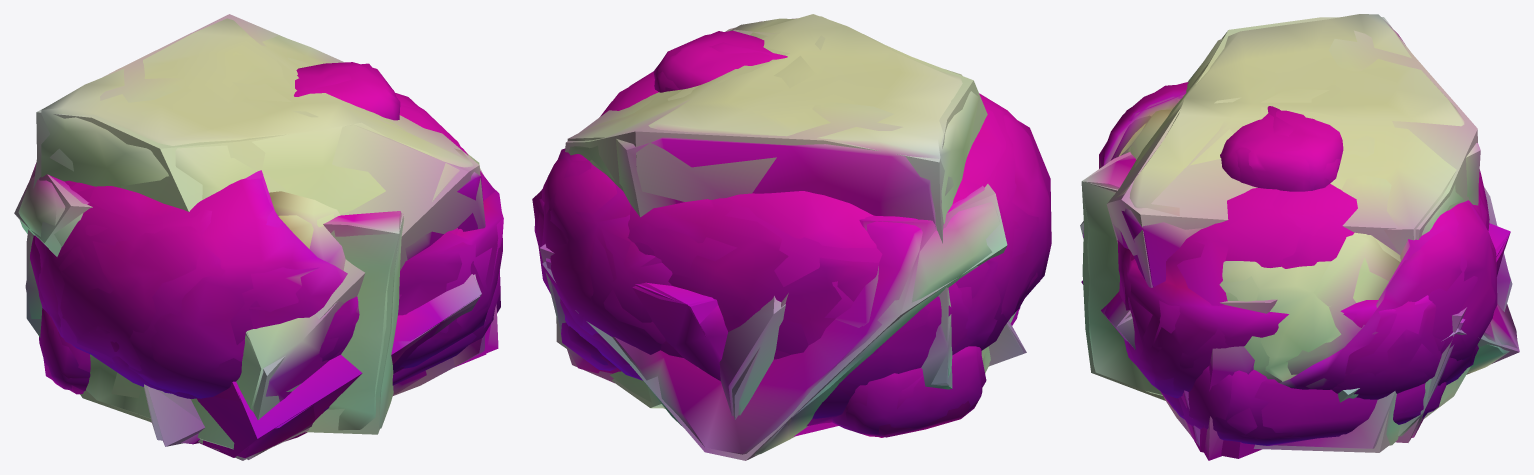
Rendered from rockkit.glb.
3 views of the same model, side by side, from view 1: azimuth 30°, elevation 25°; view 2: azimuth 150°, elevation 25°; view 3: azimuth 270°, elevation 25° (orthographic). The views are drawn at different scales.
Visible parts, largest first — view 1: talus1_hi, corestone_hi, talus1_lo, corestone_lo, talus2_hi, boulder_hi, tor_hi, slab_lo, slab_hi, talus2_lo, boulder_lo, chip_lo (+2 smaller); view 2: talus1_hi, boulder_hi, talus2_hi, corestone_hi, talus1_lo, corestone_lo, tor_hi, boulder_lo, talus2_lo, slab_hi, chip_hi, tor_lo (+2 smaller); view 3: talus1_hi, boulder_hi, corestone_hi, talus1_lo, tor_hi, corestone_lo, boulder_lo, talus2_hi, tor_lo, chip_hi, slab_hi, talus2_lo (+2 smaller).
Part boxes in pixels (left/top/right/bottom): talus1_hi: left=25, top=18, right=483, bottom=459; corestone_hi: left=38, top=152, right=471, bottom=398; talus1_lo: left=26, top=14, right=485, bottom=460; corestone_lo: left=35, top=154, right=480, bottom=393; talus2_hi: left=18, top=163, right=403, bottom=430; boulder_hi: left=30, top=93, right=502, bottom=393; tor_hi: left=39, top=62, right=500, bottom=411; slab_lo: left=151, top=274, right=480, bottom=457; slab_hi: left=201, top=274, right=481, bottom=458; talus2_lo: left=14, top=168, right=403, bottom=434; boulder_lo: left=34, top=93, right=503, bottom=398; chip_lo: left=147, top=169, right=498, bottom=446; talus1_hi: left=567, top=14, right=1015, bottom=409; boulder_hi: left=534, top=71, right=1026, bottom=423; talus2_hi: left=612, top=185, right=1000, bottom=455; corestone_hi: left=541, top=93, right=1050, bottom=349; talus1_lo: left=556, top=16, right=1018, bottom=408; corestone_lo: left=542, top=101, right=1051, bottom=354; tor_hi: left=568, top=30, right=982, bottom=437; boulder_lo: left=532, top=79, right=1037, bottom=426; talus2_lo: left=542, top=184, right=1007, bottom=460; slab_hi: left=546, top=258, right=1020, bottom=380; chip_hi: left=719, top=296, right=1023, bottom=416; tor_lo: left=561, top=31, right=986, bottom=437; talus1_hi: left=1083, top=14, right=1480, bottom=448; boulder_hi: left=1117, top=169, right=1489, bottom=398; corestone_hi: left=1103, top=82, right=1496, bottom=389; talus1_lo: left=1080, top=17, right=1477, bottom=452; tor_hi: left=1163, top=110, right=1446, bottom=445; corestone_lo: left=1099, top=85, right=1497, bottom=389; boulder_lo: left=1122, top=186, right=1487, bottom=399; talus2_hi: left=1081, top=154, right=1518, bottom=398; tor_lo: left=1178, top=106, right=1441, bottom=439; chip_hi: left=1194, top=187, right=1510, bottom=458; slab_hi: left=1104, top=224, right=1510, bottom=437; talus2_lo: left=1081, top=152, right=1519, bottom=402.
Bounding box in the file's own units: 1.98 × 1.26 × 1.81.
